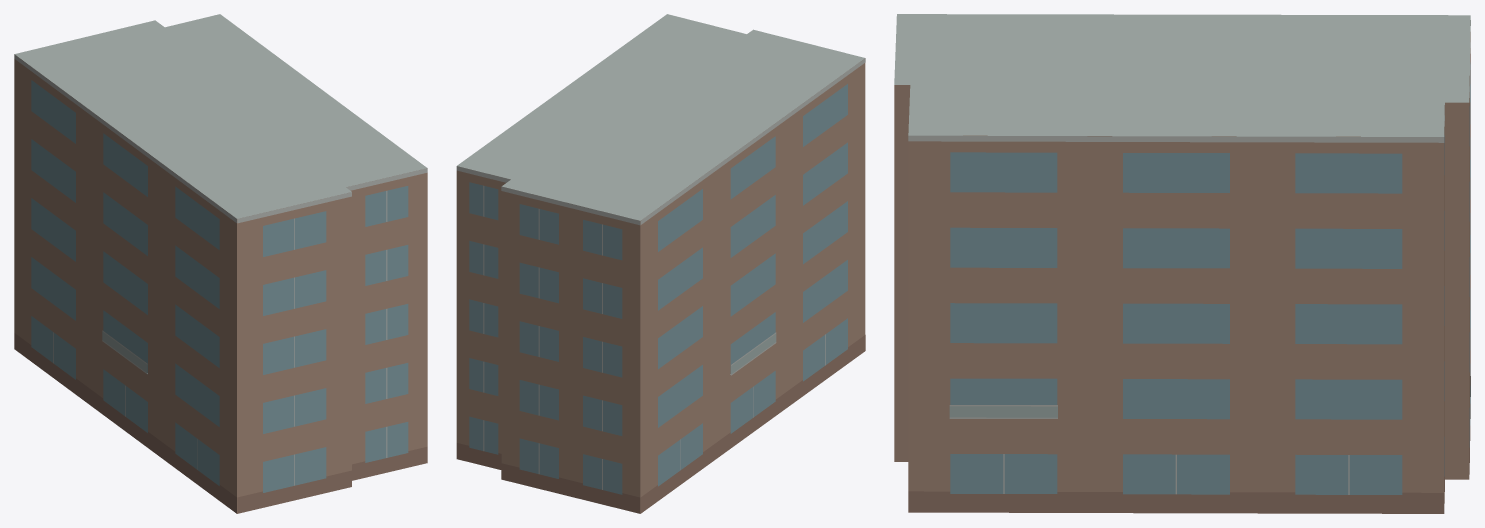
The model's file is survey-upis-33021079.glb.
The picture shows the model from 3 angles, left to right: view 1: azimuth 30°, elevation 25°; view 2: azimuth 150°, elevation 25°; view 3: azimuth 270°, elevation 25°; orthographic projection. The views are drawn at different scales.
Visible parts, largest first — view 1: survey-upis-33021079.tmp; view 2: survey-upis-33021079.tmp; view 3: survey-upis-33021079.tmp.
Part boxes in pixels (x1,y1,x2,y2): survey-upis-33021079.tmp: (14,14,427,513); survey-upis-33021079.tmp: (456,14,865,513); survey-upis-33021079.tmp: (894,14,1470,513).
Bounding box in the file's own units: 11.07 × 15.8 × 21.92.
